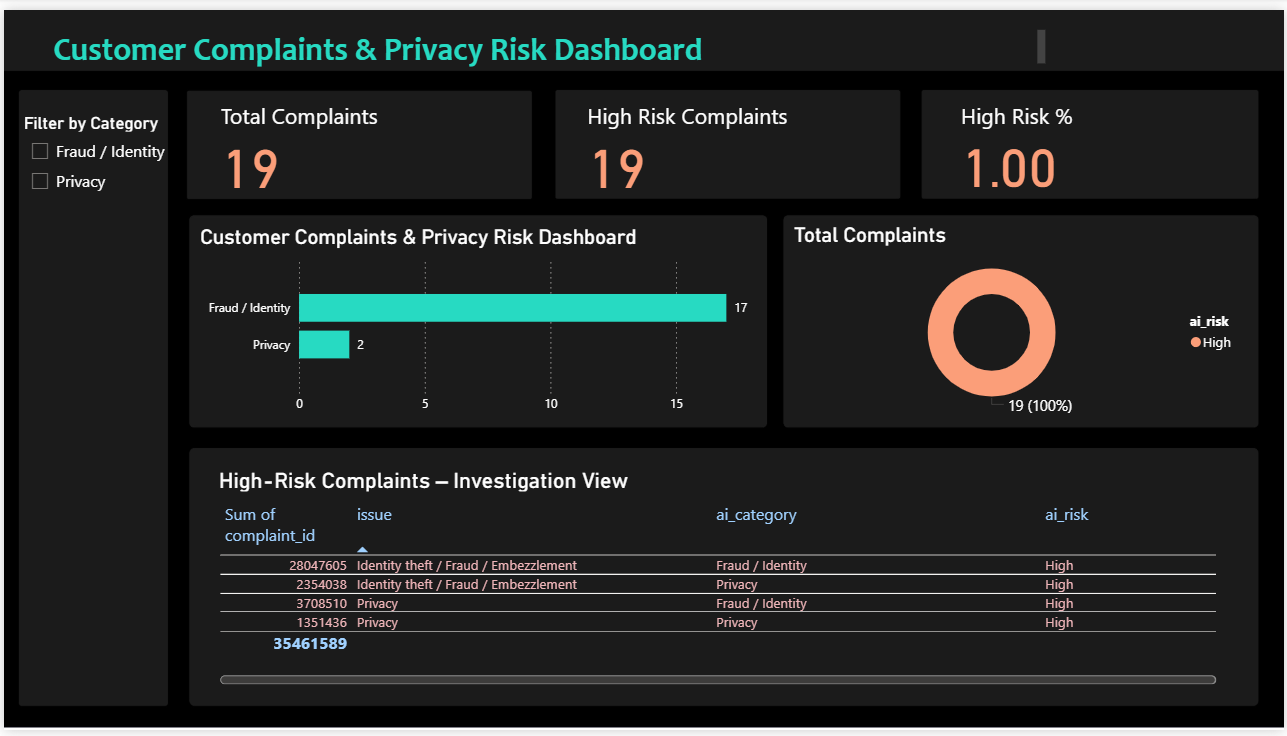

Layout of this report page (visuals, bound fields, positions):
{"tool":"powerbi","page":{"name":"Page 1","canvas":[1280,720],"ordinal":0},"visuals":[{"type":"cardVisual","fields":{"Data":["gold_complaints_final.Total Complaints"]},"box":[199.7,73.9,326.1,115.9],"z":0},{"type":"cardVisual","fields":{"Data":["gold_complaints_final.High Risk Complaints"]},"box":[566.4,73.9,320.3,110.1],"z":1},{"type":"cardVisual","fields":{"Data":["gold_complaints_final.High Risk %"]},"box":[940.3,73.9,304.3,110.1],"z":2},{"type":"clusteredBarChart","title":"Customer Complaints & Privacy Risk Dashboard","fields":{"Category":["gold_complaints_final.ai_category"],"Y":["CountNonNull(gold_complaints_final.complaint_id)"]},"box":[191.3,214.5,566.7,197.1],"z":3},{"type":"donutChart","title":"Total Complaints","fields":{"Category":["gold_complaints_final.ai_risk"],"Y":["CountNonNull(gold_complaints_final.complaint_id)"]},"box":[785.5,213,463.8,197.1],"z":4},{"type":"tableEx","title":"High-Risk Complaints – Investigation View","fields":{"Values":["Sum(gold_complaints_final.complaint_id)","gold_complaints_final.issue","gold_complaints_final.ai_category","gold_complaints_final.ai_risk"]},"box":[210.1,458,1007.2,221.7],"z":6},{"type":"slicer","title":"Filter by Category","fields":{"Values":["gold_complaints_final.ai_category"]},"box":[14.5,102.9,155.1,466.7],"z":7},{"type":"textbox","box":[43.5,14.5,1002.9,46.4],"z":8}]}

Visuals, with their boxes in screenshot pixels (x1, y1, x2, y2), scaled from the page's 1280x720 canvas onto the 1287x736 screenshot:
cardVisual - gold_complaints_final.Total Complaints: Rect(201, 76, 529, 194)
cardVisual - gold_complaints_final.High Risk Complaints: Rect(569, 76, 892, 188)
cardVisual - gold_complaints_final.High Risk %: Rect(945, 76, 1251, 188)
"Customer Complaints & Privacy Risk Dashboard" clusteredBarChart: Rect(192, 219, 762, 421)
"Total Complaints" donutChart: Rect(790, 218, 1256, 419)
"High-Risk Complaints – Investigation View" tableEx: Rect(211, 468, 1224, 695)
"Filter by Category" slicer: Rect(15, 105, 171, 582)
textbox: Rect(44, 15, 1052, 62)
